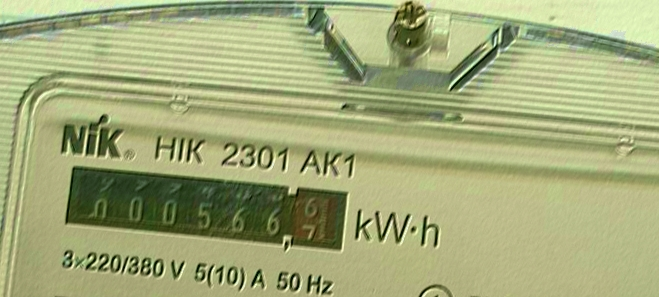0: (157, 198, 178, 228), (124, 194, 143, 224), (88, 195, 109, 220)
5: (192, 201, 213, 232)
6: (261, 205, 283, 238), (225, 205, 247, 235), (300, 196, 319, 222)
7: (298, 224, 315, 243)
9: (94, 174, 114, 195)
screen: (53, 158, 352, 261)
